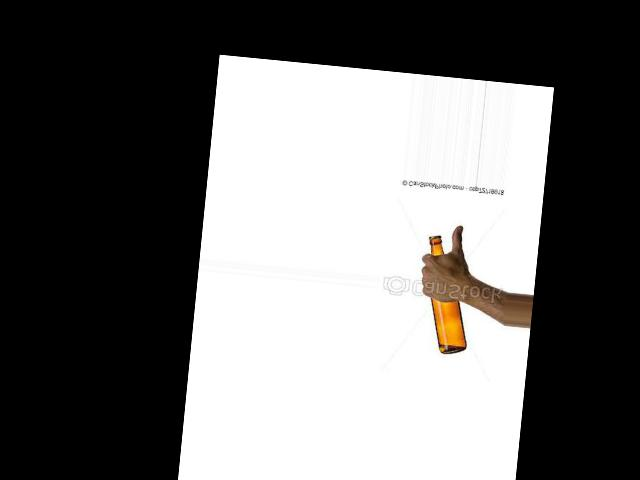beer: (418, 235, 477, 355)
